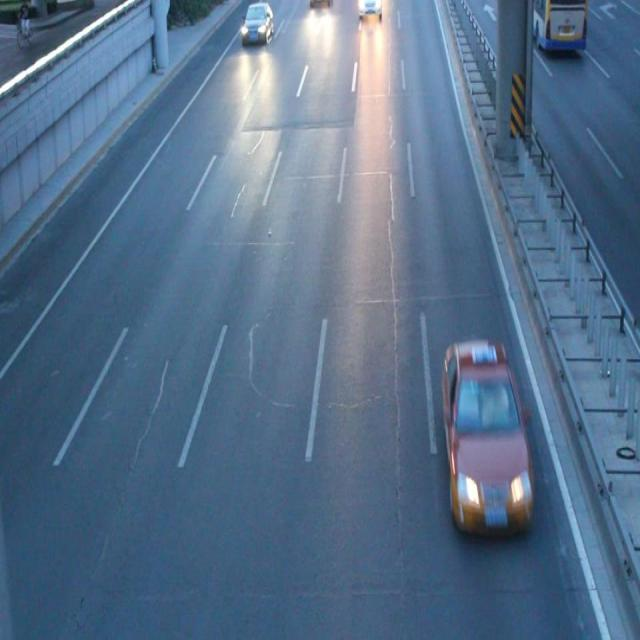car: (441, 339, 532, 531), (242, 1, 272, 44)
